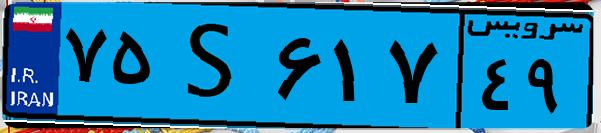1: (330, 28, 385, 110)
4: (475, 38, 525, 113)
5: (110, 28, 158, 98)
6: (270, 28, 330, 110)
7: (385, 28, 445, 110), (57, 26, 110, 100)
9: (525, 38, 570, 115)
S: (158, 12, 270, 120)
